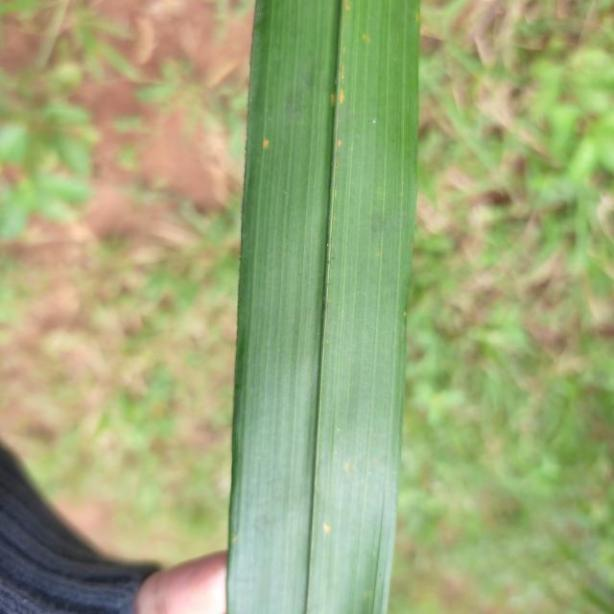Kalium: (227, 0, 424, 614)
